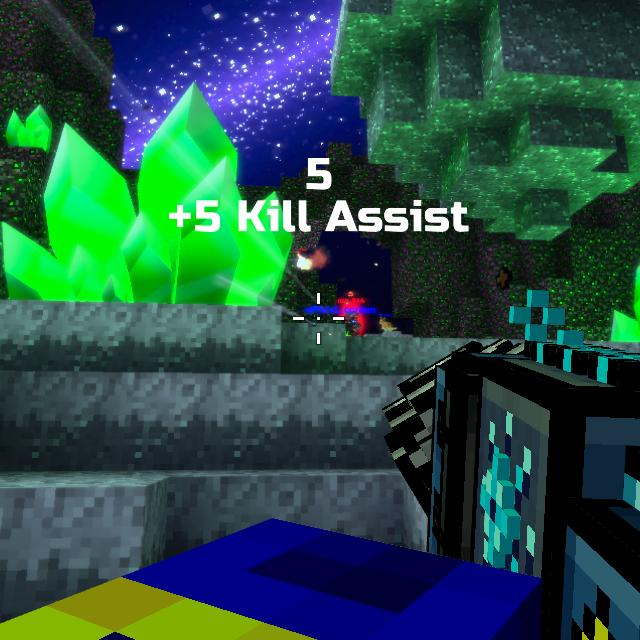Enemy: (343, 308, 362, 336)
